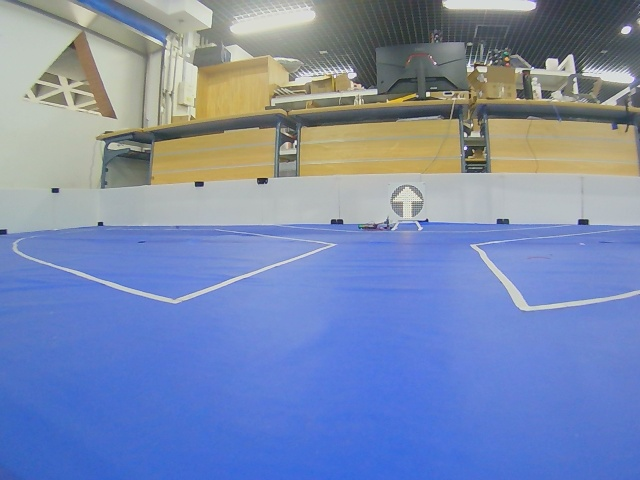straight_yellow: (390, 185, 424, 219)
